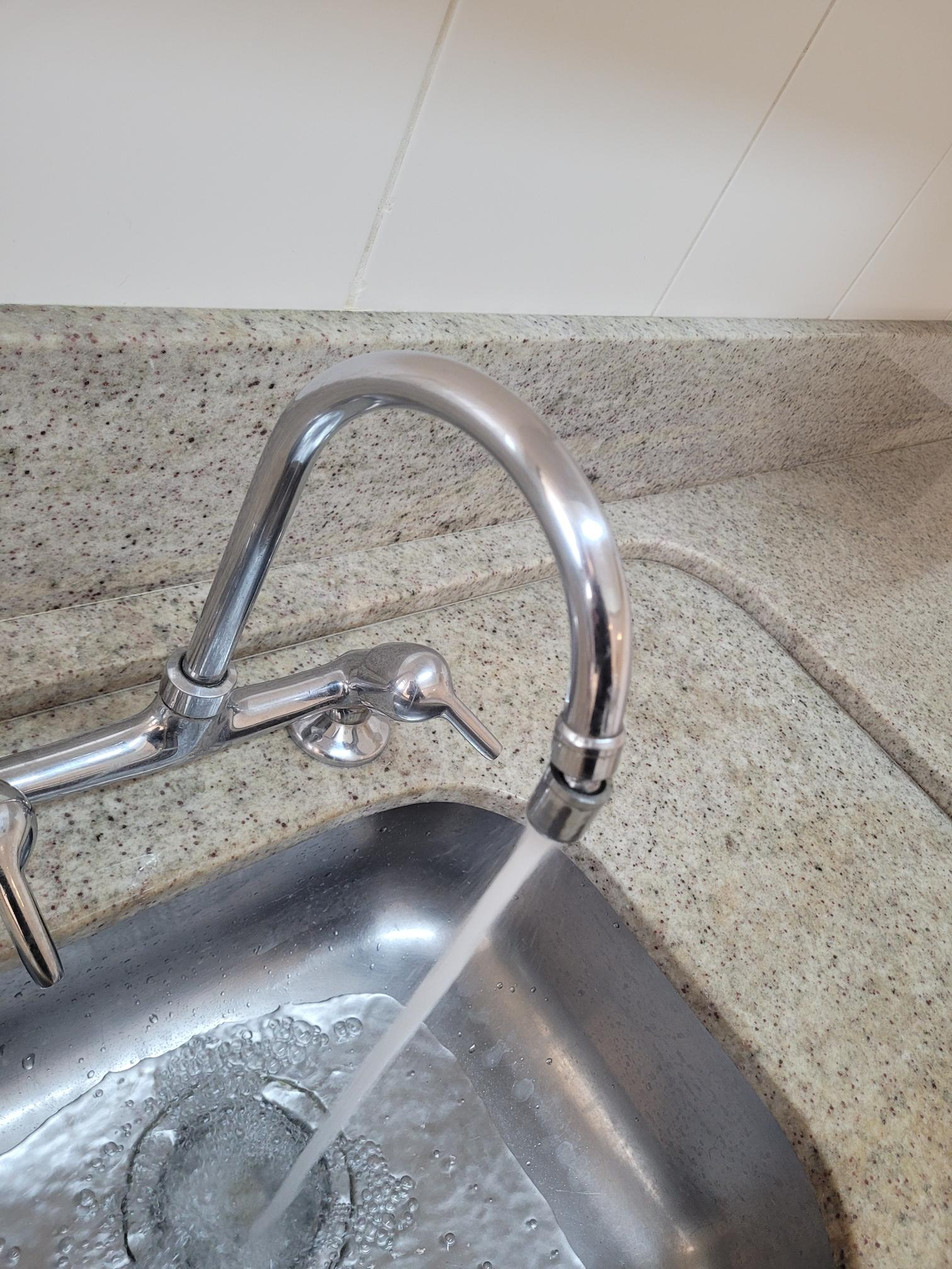torneira_aberta: (6, 305, 659, 1191)
